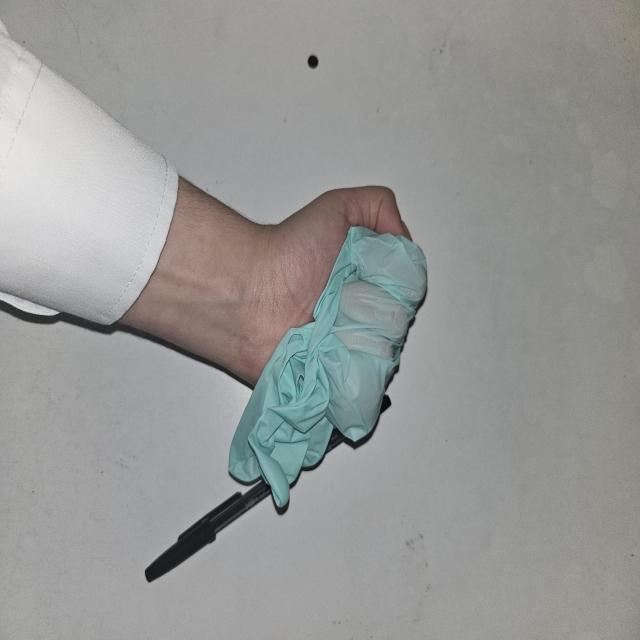glove_partial: (228, 183, 430, 508)
